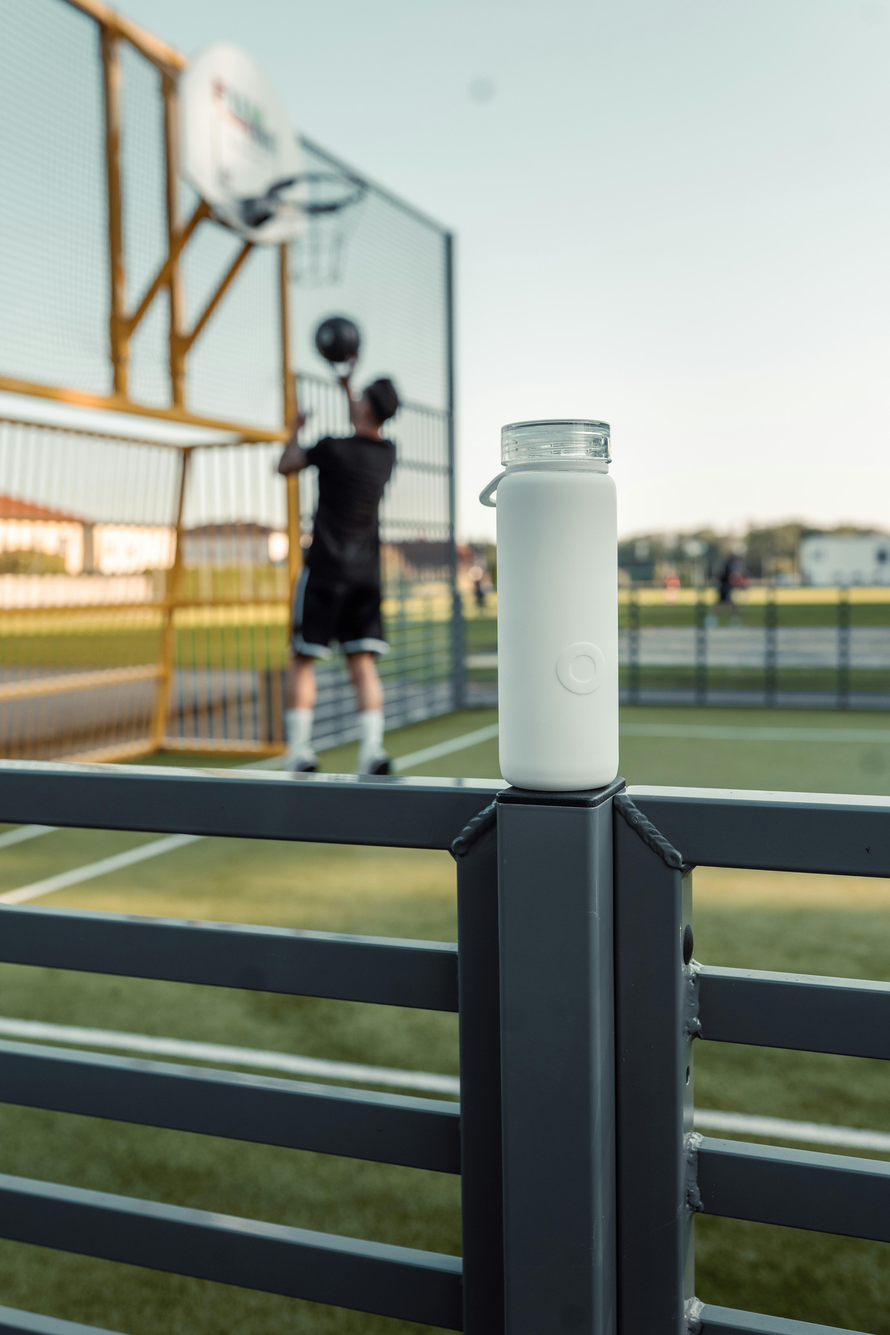Bottle-Detection: (461, 383, 659, 839)
